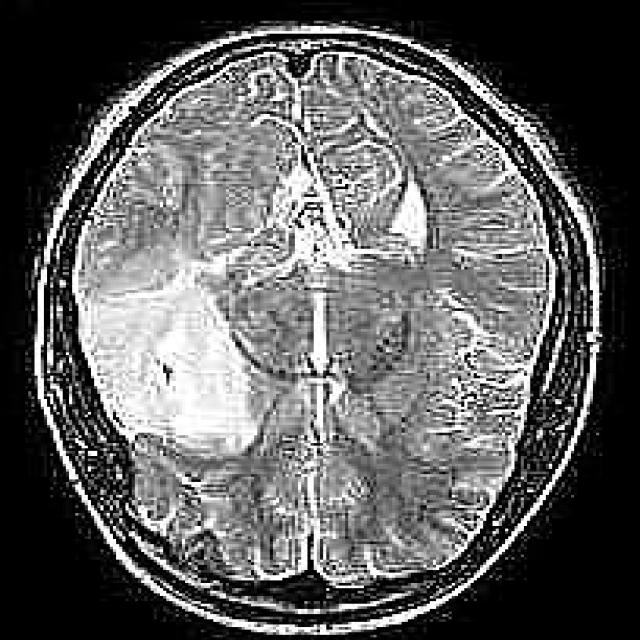Tumor-Cell: (87, 266, 250, 464)
